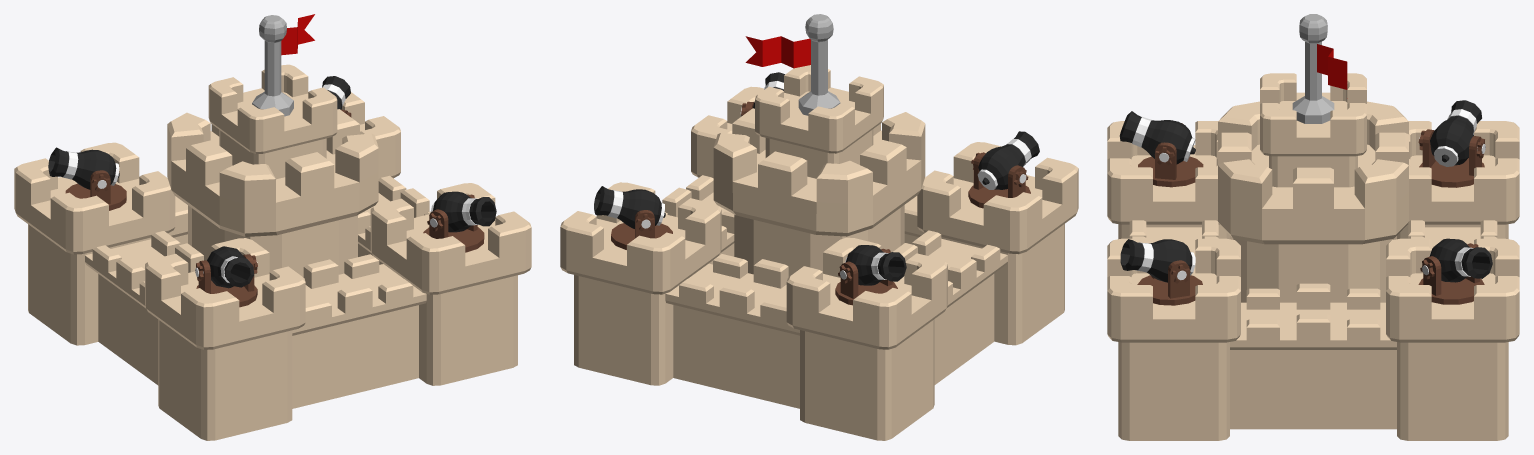
Rendered from Barracks.fbx.
The picture shows the model from 3 angles, left to right: view 1: azimuth 30°, elevation 25°; view 2: azimuth 150°, elevation 25°; view 3: azimuth 270°, elevation 25°; orthographic projection. The views are drawn at different scales.
Parts seen in each view (by area): view 1: Barracks; view 2: Barracks; view 3: Barracks.
Boxes of the visible parts, x1,y1,x2,y2 form: Barracks: [14, 14, 531, 440]; Barracks: [560, 14, 1078, 440]; Barracks: [1107, 14, 1519, 440].
Size of the model in its own units: 740 by 740 by 675.
